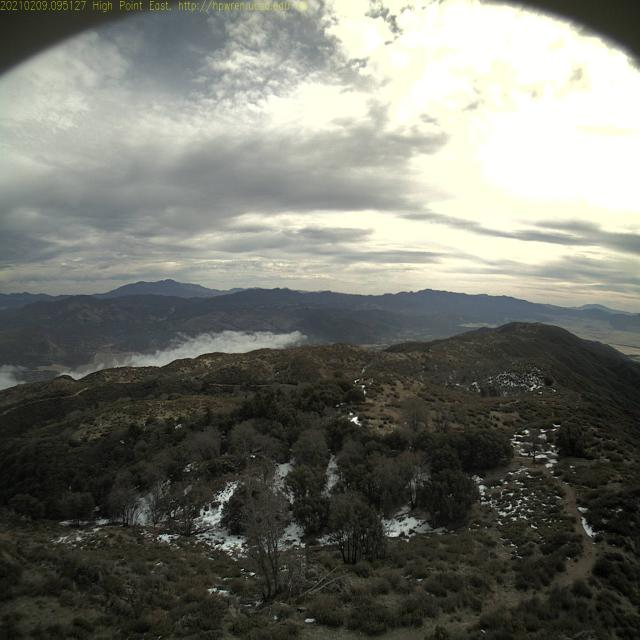smoke: (494, 314, 510, 325)
